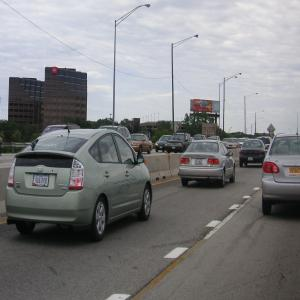Vehicle-registration-plate: (33, 173, 51, 189), (288, 168, 300, 177), (195, 159, 206, 166), (250, 157, 254, 162)
